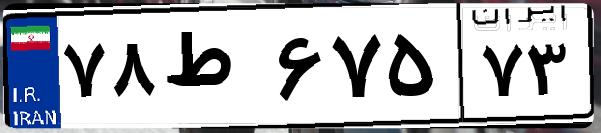3: (525, 38, 570, 115)
5: (385, 28, 445, 110)
6: (270, 28, 330, 110)
7: (330, 28, 385, 110), (57, 26, 110, 100), (475, 38, 525, 113)
8: (110, 28, 158, 98)
ط: (158, 20, 270, 120)
